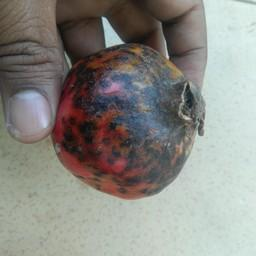Bad_pomegranate: (50, 36, 208, 209)
